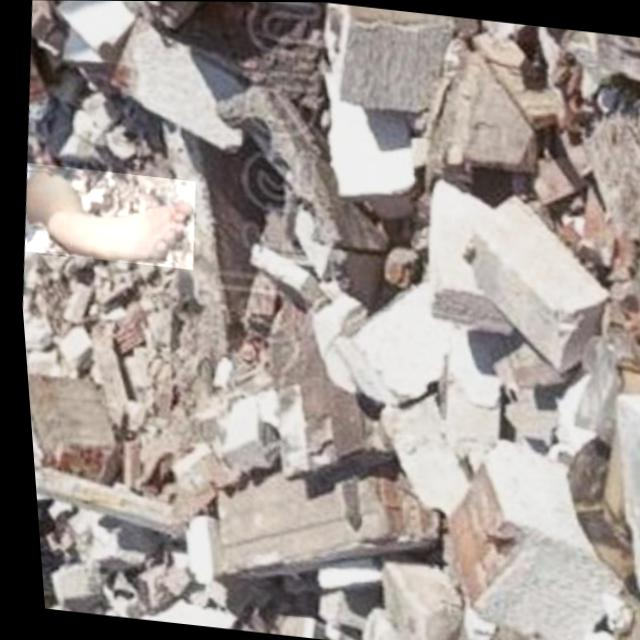Person in Rubble: (15, 162, 198, 269)
